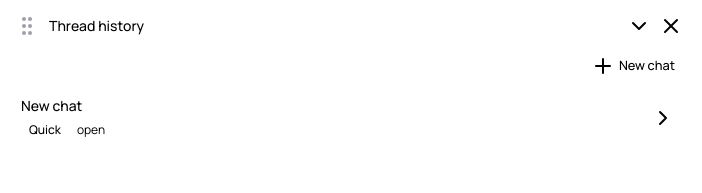
it: history › lists threads and opens the thread on arrow click
Expected: the text "Thread history" is shown, top-left (49, 16), bottom-right (144, 35)
Expected: the button "New chat" is shown, top-left (581, 52), bottom-right (685, 80)
Click the button named "open new chat" at (663, 118), box top-left (649, 104), bottom-right (677, 132)
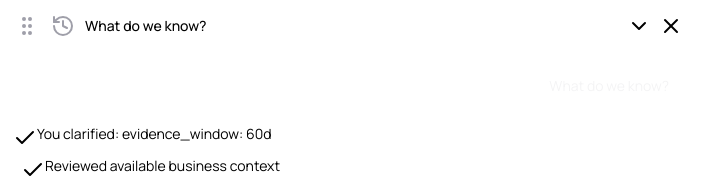
Result: the text "You clarified: evidence_window: 60d" is shown at top-left (37, 124), bottom-right (272, 144)
